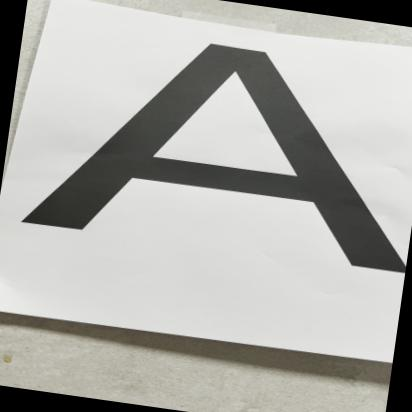seat: (0, 0, 412, 311)
